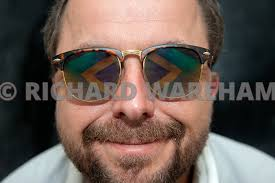white_male: (54, 12, 210, 183)
